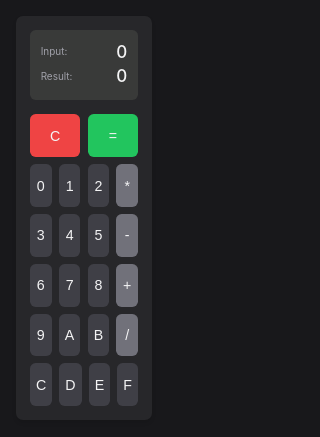
Test: Calculator › returns results as hexadecimal values only
// Test addition that results in a hexadecimal value
Click the button "A" at (70, 335), box [59, 314, 80, 356]
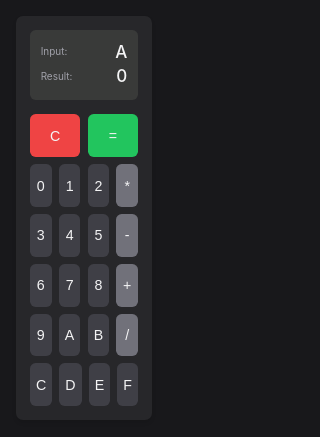
Click the button "+" at (127, 285), box [116, 264, 138, 307]
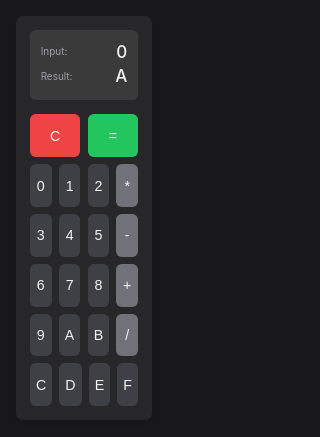
Click the button "B" at (98, 335), box [88, 314, 109, 356]
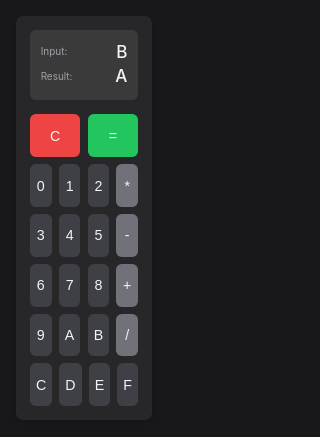
Click the button "=" at (113, 136), box [88, 114, 138, 157]
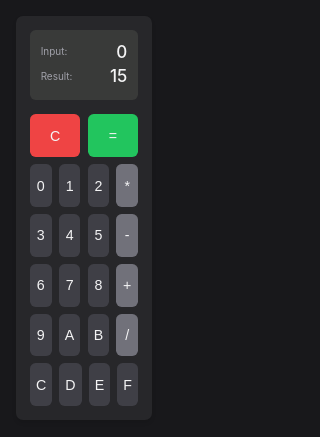
Expected: the text "0" reads "15", [110, 65, 127, 86]
